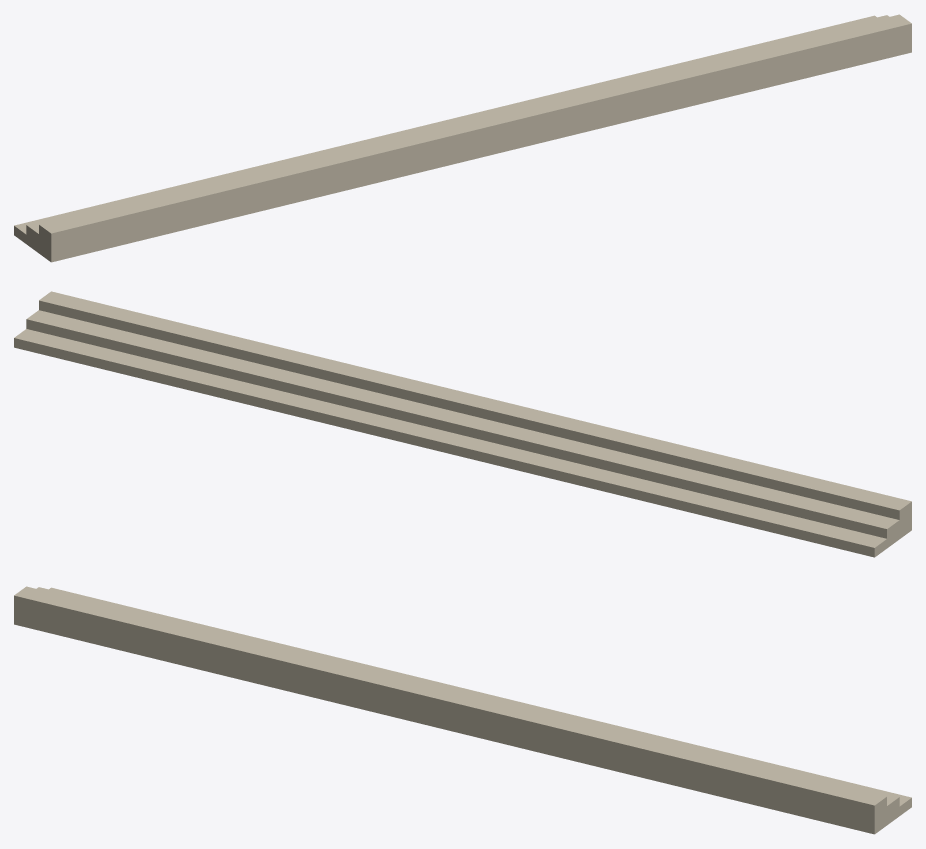
File: cityhall_entry_steps.glb
3 renders of one model, top to bottom at view 1: azimuth 30°, elevation 25°; view 2: azimuth 150°, elevation 25°; view 3: azimuth 330°, elevation 25°, orthographic.
Visible parts, largest first — view 1: cityhall_steps_2-col, cityhall_steps_1-col, cityhall_steps_0-col; view 2: cityhall_steps_1-col, cityhall_steps_0-col, cityhall_steps_2-col; view 3: cityhall_steps_2-col, cityhall_steps_1-col, cityhall_steps_0-col.
Part boxes in pixels (x1,y1,x2,y2): cityhall_steps_2-col: (39,14,911,261); cityhall_steps_1-col: (26,15,911,261); cityhall_steps_0-col: (14,15,911,262); cityhall_steps_1-col: (26,310,911,548); cityhall_steps_0-col: (14,329,911,557); cityhall_steps_2-col: (39,291,911,529); cityhall_steps_2-col: (14,586,886,833); cityhall_steps_1-col: (14,587,899,833); cityhall_steps_0-col: (14,587,911,834).
Size of the model in its own units: 14 by 0.45 by 1.05.
